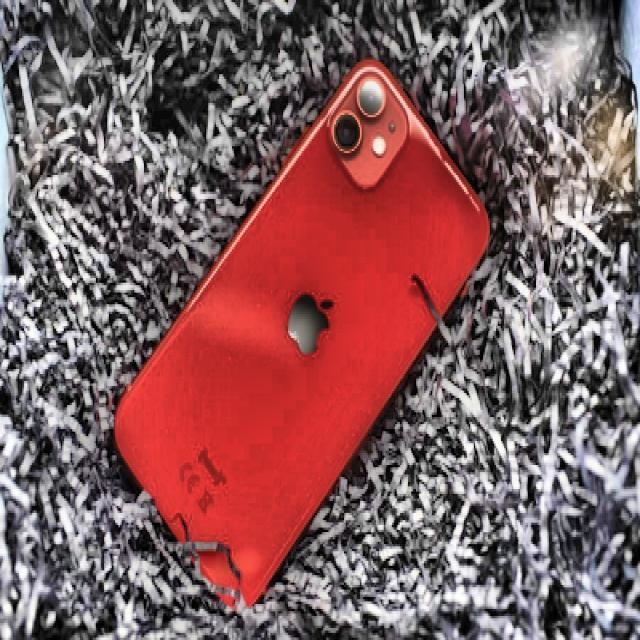Phone: (111, 59, 493, 626)
